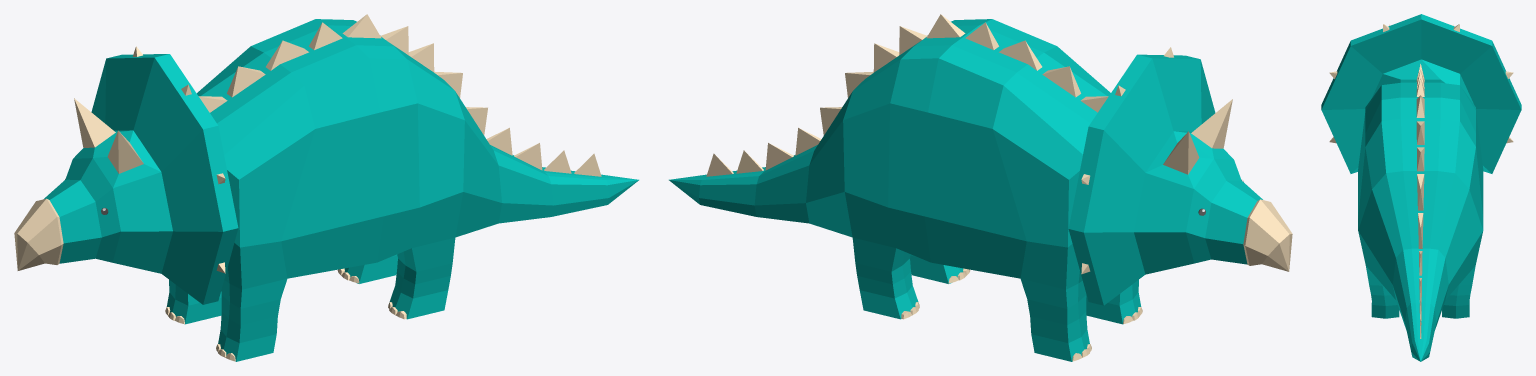
Rendered from Dinosaur_01.gltf.
3 renders of one model, left to right at view 1: azimuth 30°, elevation 25°; view 2: azimuth 150°, elevation 25°; view 3: azimuth 270°, elevation 25°, orthographic. The views are drawn at different scales.
Visible parts, largest first — view 1: node-0; view 2: node-0; view 3: node-0.
Part boxes in pixels (box(x1,y1,x2,y2)): node-0: box(14, 14, 638, 361); node-0: box(669, 14, 1292, 361); node-0: box(1321, 14, 1521, 361).
Size of the model in its own units: 424 by 189 by 162.
